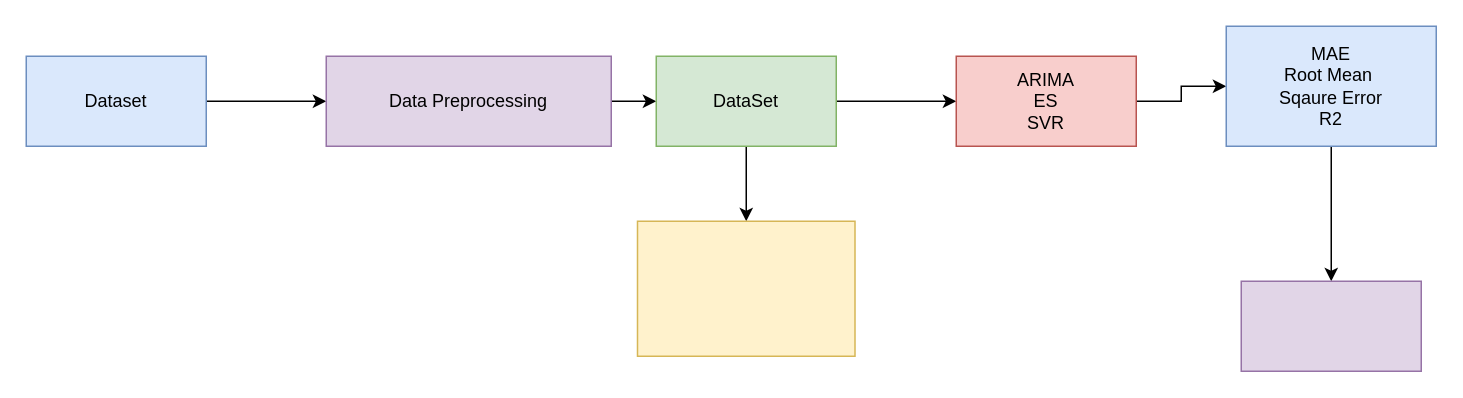
This 1463x398 diagram has some shape labels left out. Here are the shapes that lost their labels. From the top down, the box of each, then its label:
(636, 220, 855, 356): Augmented Dickey-Fuller (ADF)
(1240, 280, 1421, 371): Performance Evaluation
